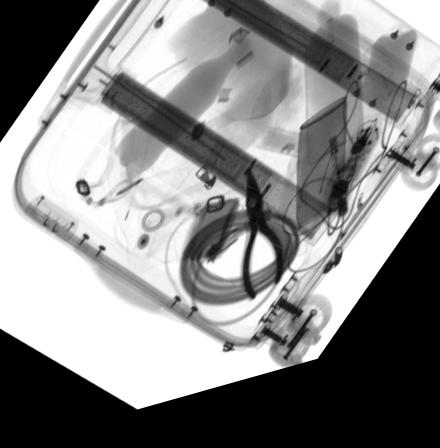Pliers: (242, 185, 284, 318)
